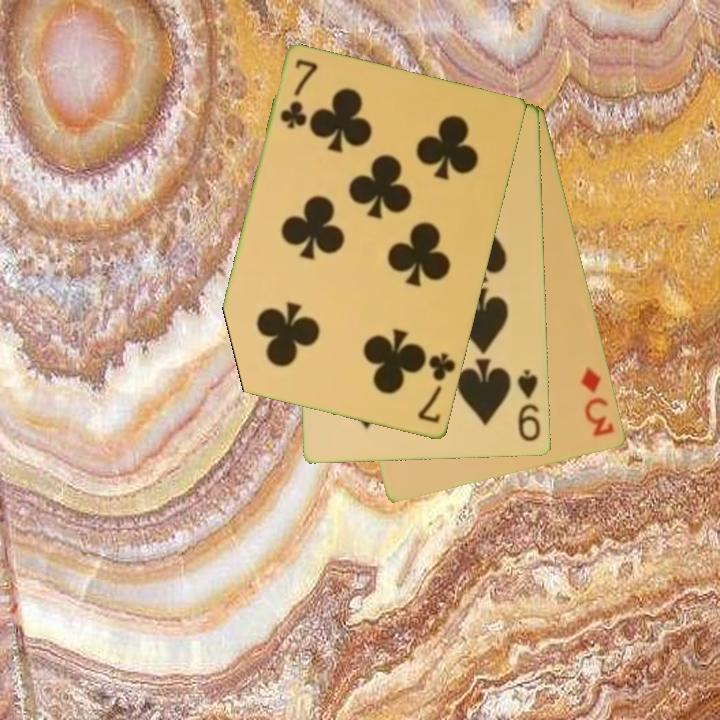3d: (578, 363, 618, 440)
7c: (414, 349, 459, 426), (277, 56, 321, 133)
9s: (514, 366, 543, 445)
